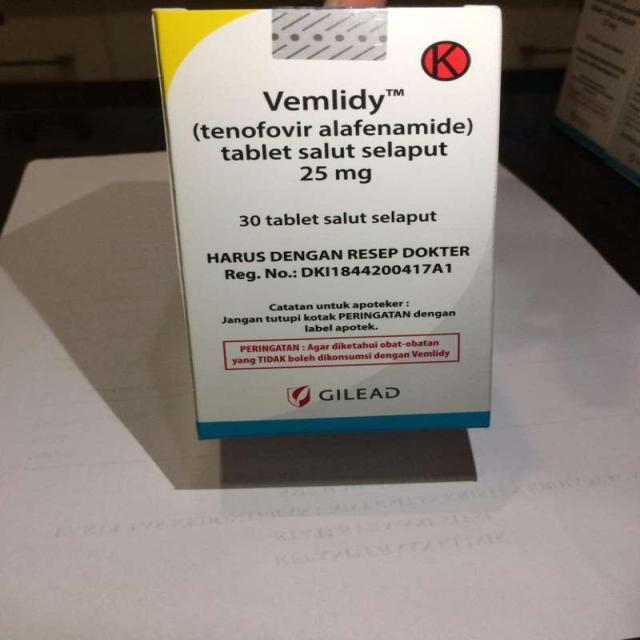drug-name: (261, 88, 386, 115)
